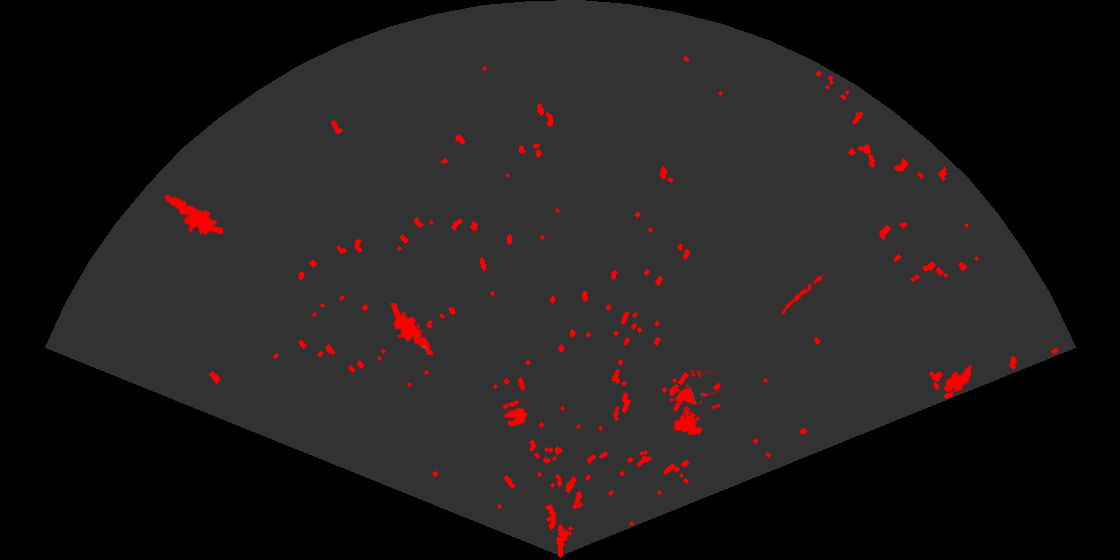AUV: (942, 363, 974, 394)
ball: (501, 399, 529, 428)
cage: (668, 370, 720, 437)
chain: (776, 270, 825, 317)
frogman: (163, 193, 223, 237), (388, 303, 435, 358)
